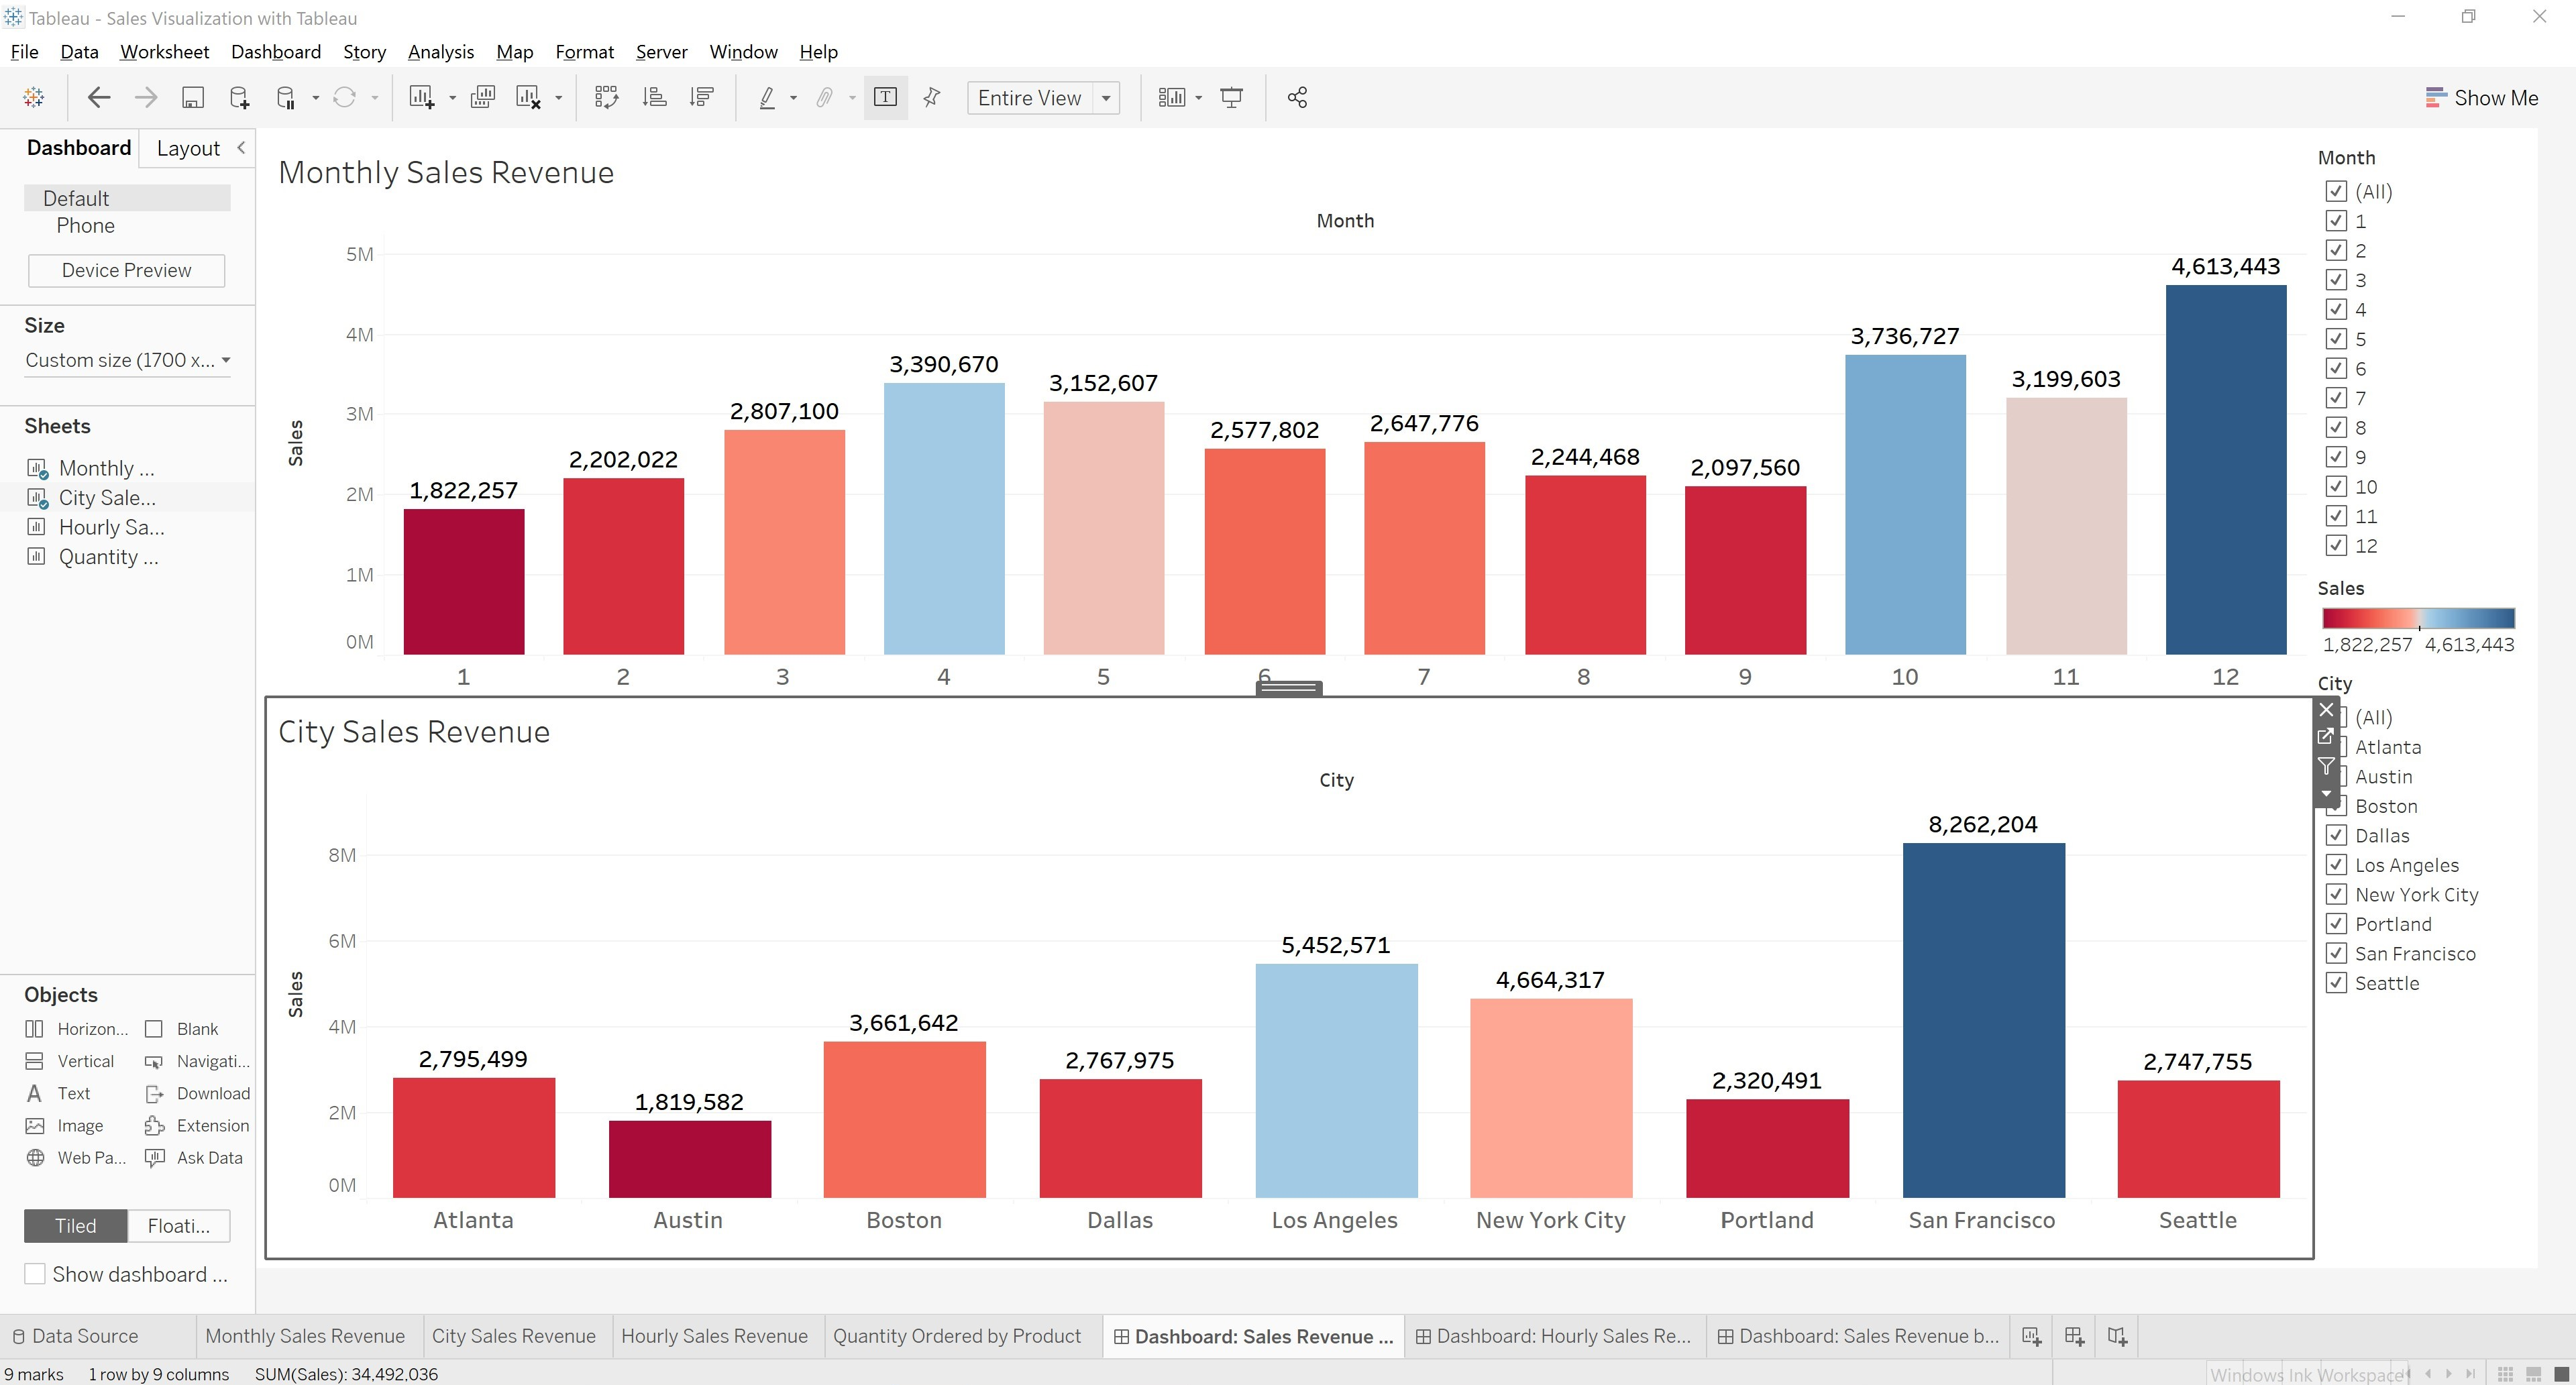

This screenshot's page, from the dashboard's own definition file:
{"tool":"tableau","page":{"name":"Dashboard: Sales Revenue by City, Month","canvas":[1700,850],"ordinal":1},"visuals":[{"type":"worksheet","title":"Monthly Sales Revenue","mark":"Automatic","rows":["Sales"],"cols":["Month"],"box":[8,8,1524,417]},{"type":"filter","title":"Monthly Sales Revenue","param":"[federated.0ngyhyb0e0siqk19xj7q51w0hanr].[none:Month:ok]","box":[1532,8,160,321]},{"type":"legend","title":"Monthly Sales Revenue","param":"[federated.0ngyhyb0e0siqk19xj7q51w0hanr].[sum:Sales:qk]","box":[1532,329,160,71]},{"type":"filter","title":"City Sales Revenue","param":"[federated.0ngyhyb0e0siqk19xj7q51w0hanr].[none:City:nk]","box":[1532,400,160,255]},{"type":"worksheet","title":"City Sales Revenue","mark":"Automatic","rows":["Sales"],"cols":["City"],"box":[8,425,1524,417]}]}

Visuals, with their boxes on the page's 1700x850 design canvas (x1, y1, x2, y2). These are canvas units, not pixel positions in the 2576x1385 screenshot, which may show the page scaled, cropped or inside an application window:
"Monthly Sales Revenue" worksheet: (left=8, top=8, right=1532, bottom=425)
"Monthly Sales Revenue" filter: (left=1532, top=8, right=1692, bottom=329)
"Monthly Sales Revenue" legend: (left=1532, top=329, right=1692, bottom=400)
"City Sales Revenue" filter: (left=1532, top=400, right=1692, bottom=655)
"City Sales Revenue" worksheet: (left=8, top=425, right=1532, bottom=842)
